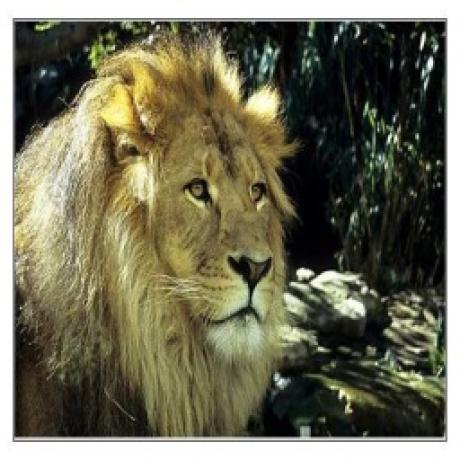Lion: (14, 30, 299, 437)
